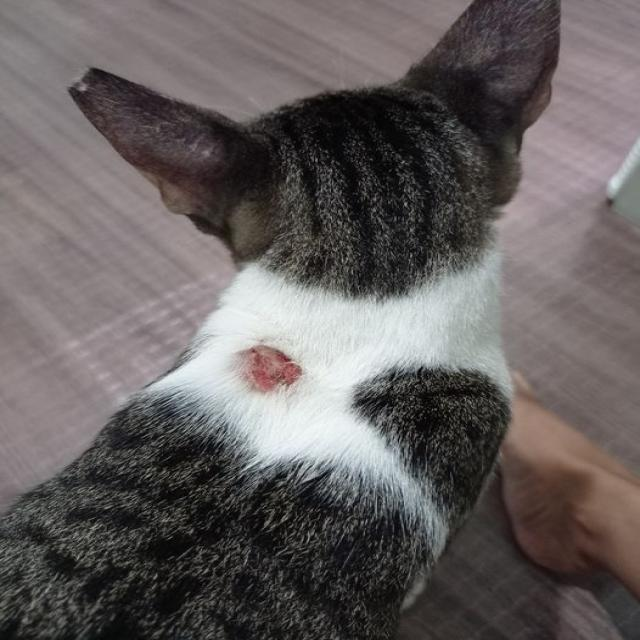Ringworm: (235, 342, 308, 394)
